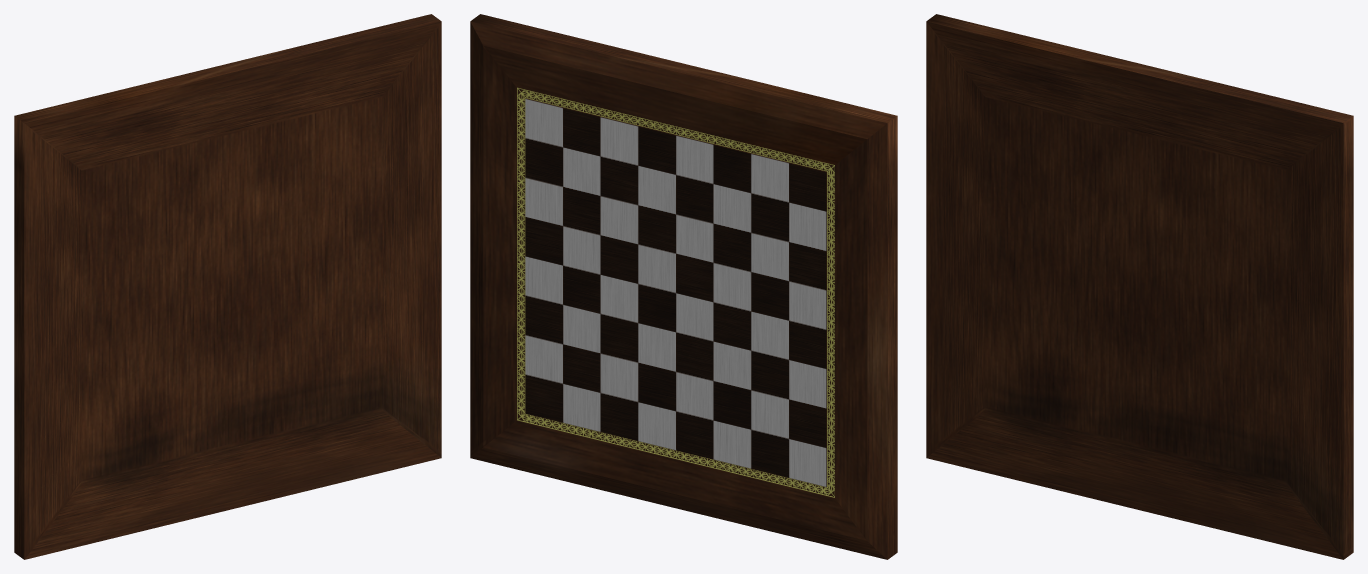
The model's file is Board.FBX.
The picture shows the model from 3 angles, left to right: view 1: azimuth 30°, elevation 25°; view 2: azimuth 150°, elevation 25°; view 3: azimuth 330°, elevation 25°; orthographic projection.
Visible parts, largest first — view 1: Box003; view 2: Box003; view 3: Box003.
Boxes of the visible parts, <box> form: Box003: <box>14,14,441,559</box>; Box003: <box>470,14,897,559</box>; Box003: <box>926,14,1353,559</box>.
Size of the model in its own units: 416 by 416 by 23.7.
1 material, 1 textured.
